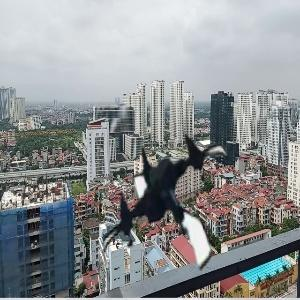drone: (87, 132, 253, 298)
